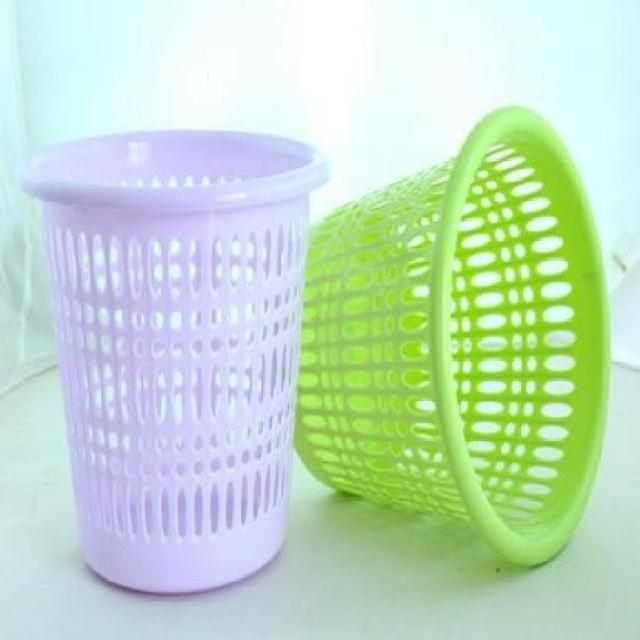dustbin: (16, 121, 337, 604)
